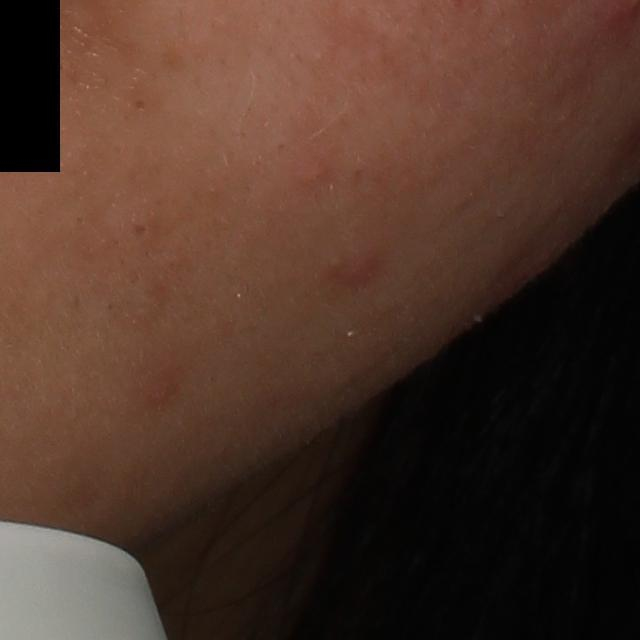comedo: (128, 218, 151, 242), (128, 96, 149, 117)
papule: (328, 248, 381, 279), (294, 150, 331, 189)
